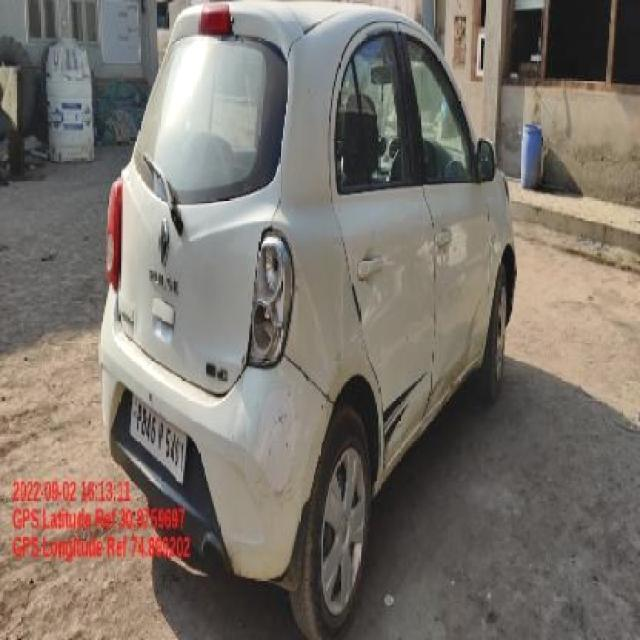minor: (357, 286, 397, 366), (275, 405, 298, 454), (275, 482, 295, 509)
moderate: (386, 380, 435, 482)
